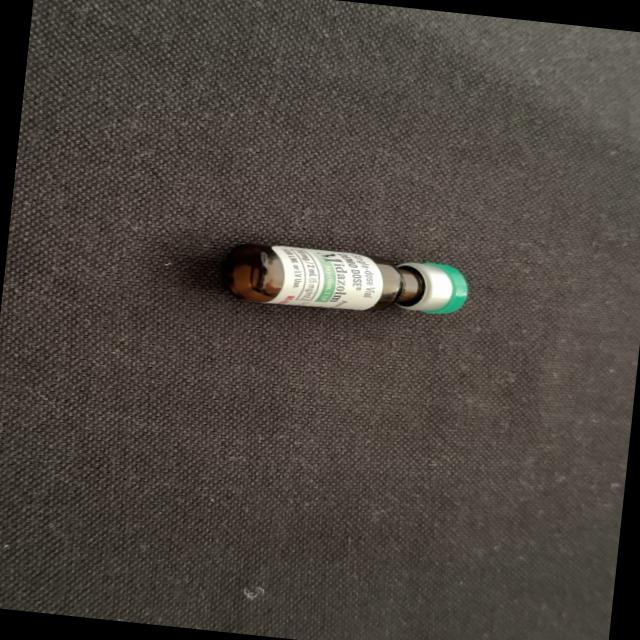midazolm: (224, 240, 465, 322)
